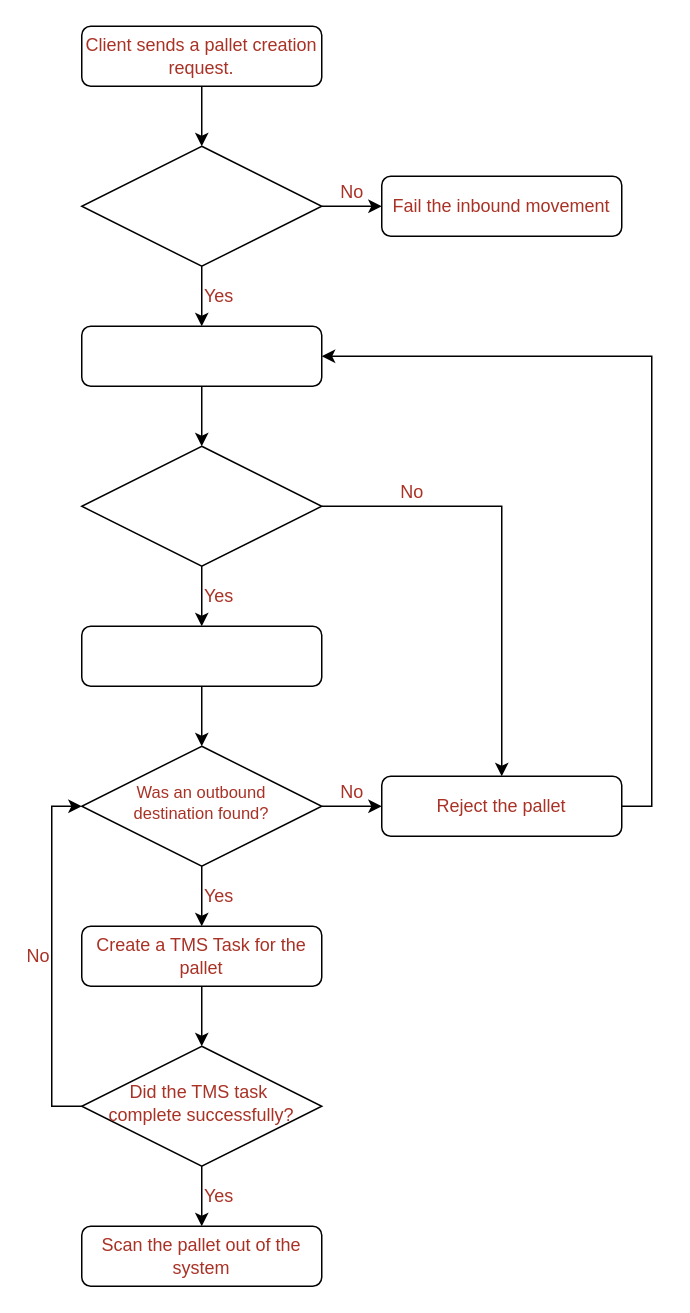
Image size: 690x1313. Some labels were removed from this diagram. The shapes that lost their labels are listed below. From the top down, each one's centre as x and y in pixels, then its label:
At (x=201, y=205): "Is the pallet request valid?".
At (x=201, y=355): "Pallet is scanned into an inbound location".
At (x=201, y=505): "Is the pallet data valid?".
At (x=201, y=655): "Find an outbound destination for the pallet".
